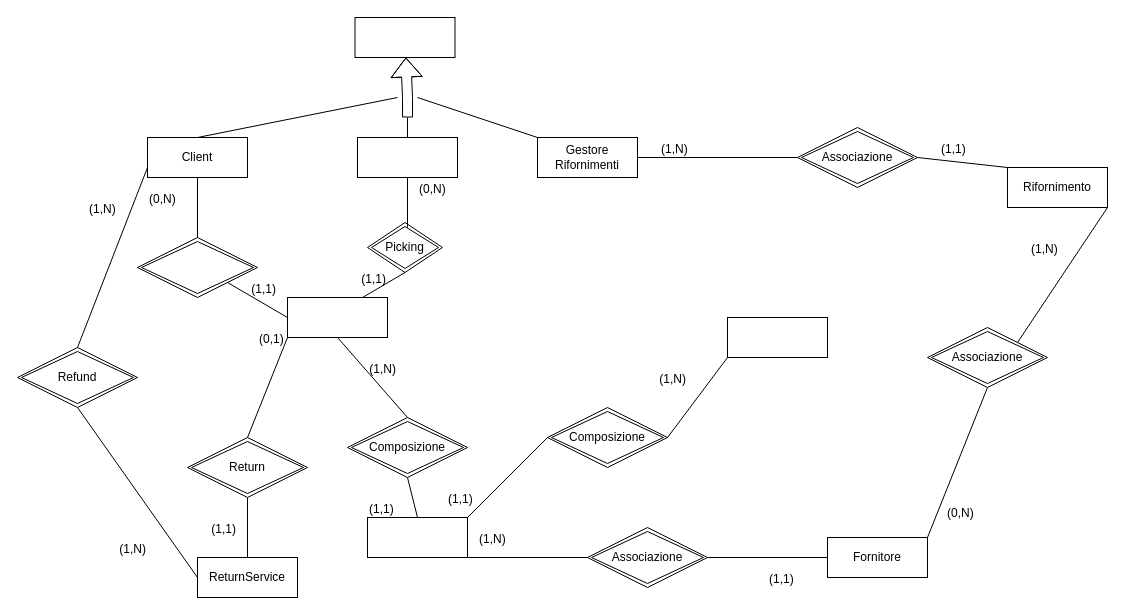
The diagram is 1126 pixels wide and 615 high, and some of its shapes have lost their labels. Here are the shapes that lost their labels. From the top down, the centre of each, then its label:
At (x=404, y=37): "Utente".
At (x=407, y=157): "Picking Operator".
At (x=197, y=267): "Creazione".
At (x=337, y=317): "Order".
At (x=777, y=337): "Magazzino".
At (x=417, y=537): "Item".
